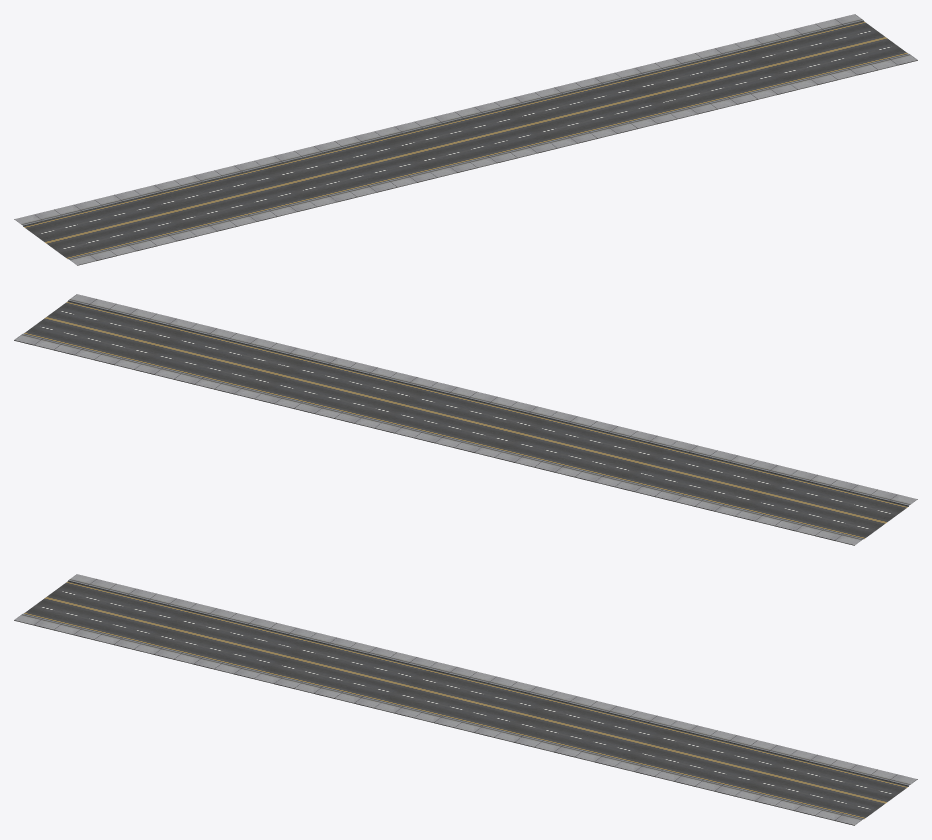
The model's file is recta.obj.
3 views of the same model, one above another, from view 1: azimuth 30°, elevation 25°; view 2: azimuth 150°, elevation 25°; view 3: azimuth 330°, elevation 25° (orthographic).
Parts seen in each view (by area): view 1: Road_2X_Straight_City_Road_mat_0; view 2: Road_2X_Straight_City_Road_mat_0; view 3: Road_2X_Straight_City_Road_mat_0.
Boxes of the visible parts, <box> form: Road_2X_Straight_City_Road_mat_0: <box>14,14,917,265</box>; Road_2X_Straight_City_Road_mat_0: <box>14,294,917,545</box>; Road_2X_Straight_City_Road_mat_0: <box>14,574,917,825</box>.
Bounding box in the file's own units: 293 × 0.2045 × 37.92.
Materials: 1 (1 with a texture image).
